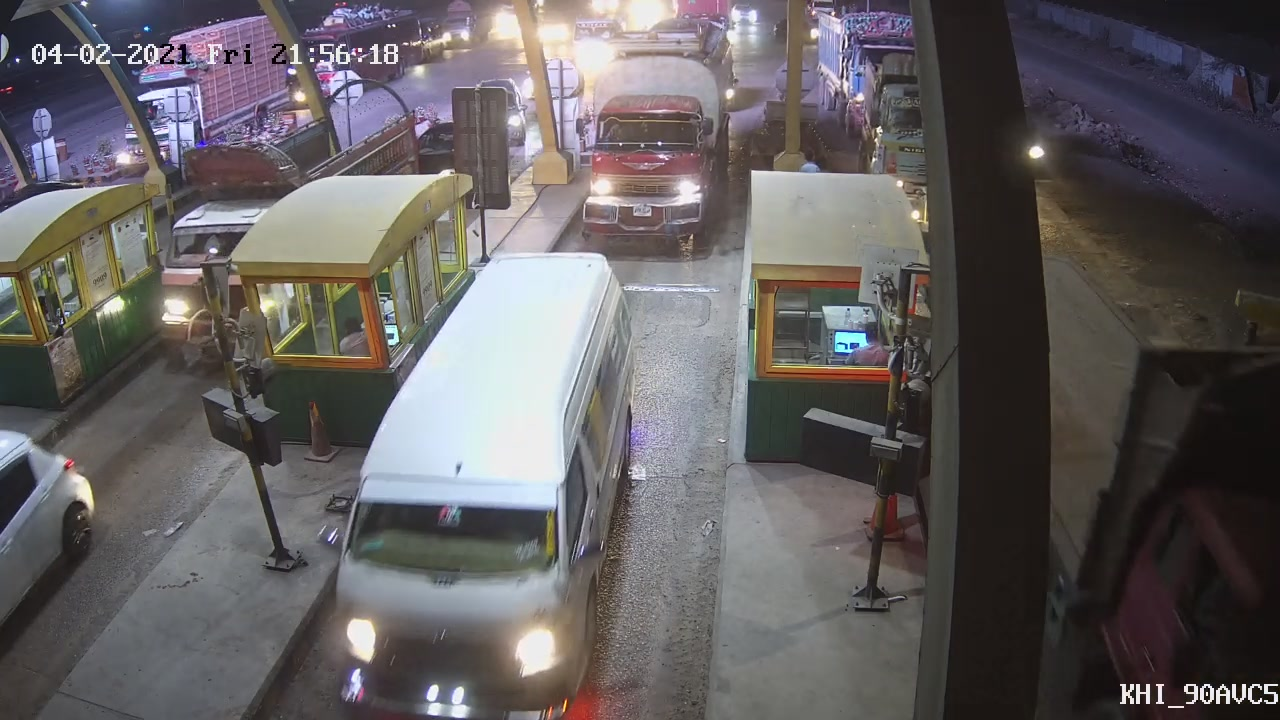F6: (579, 4, 743, 246)
